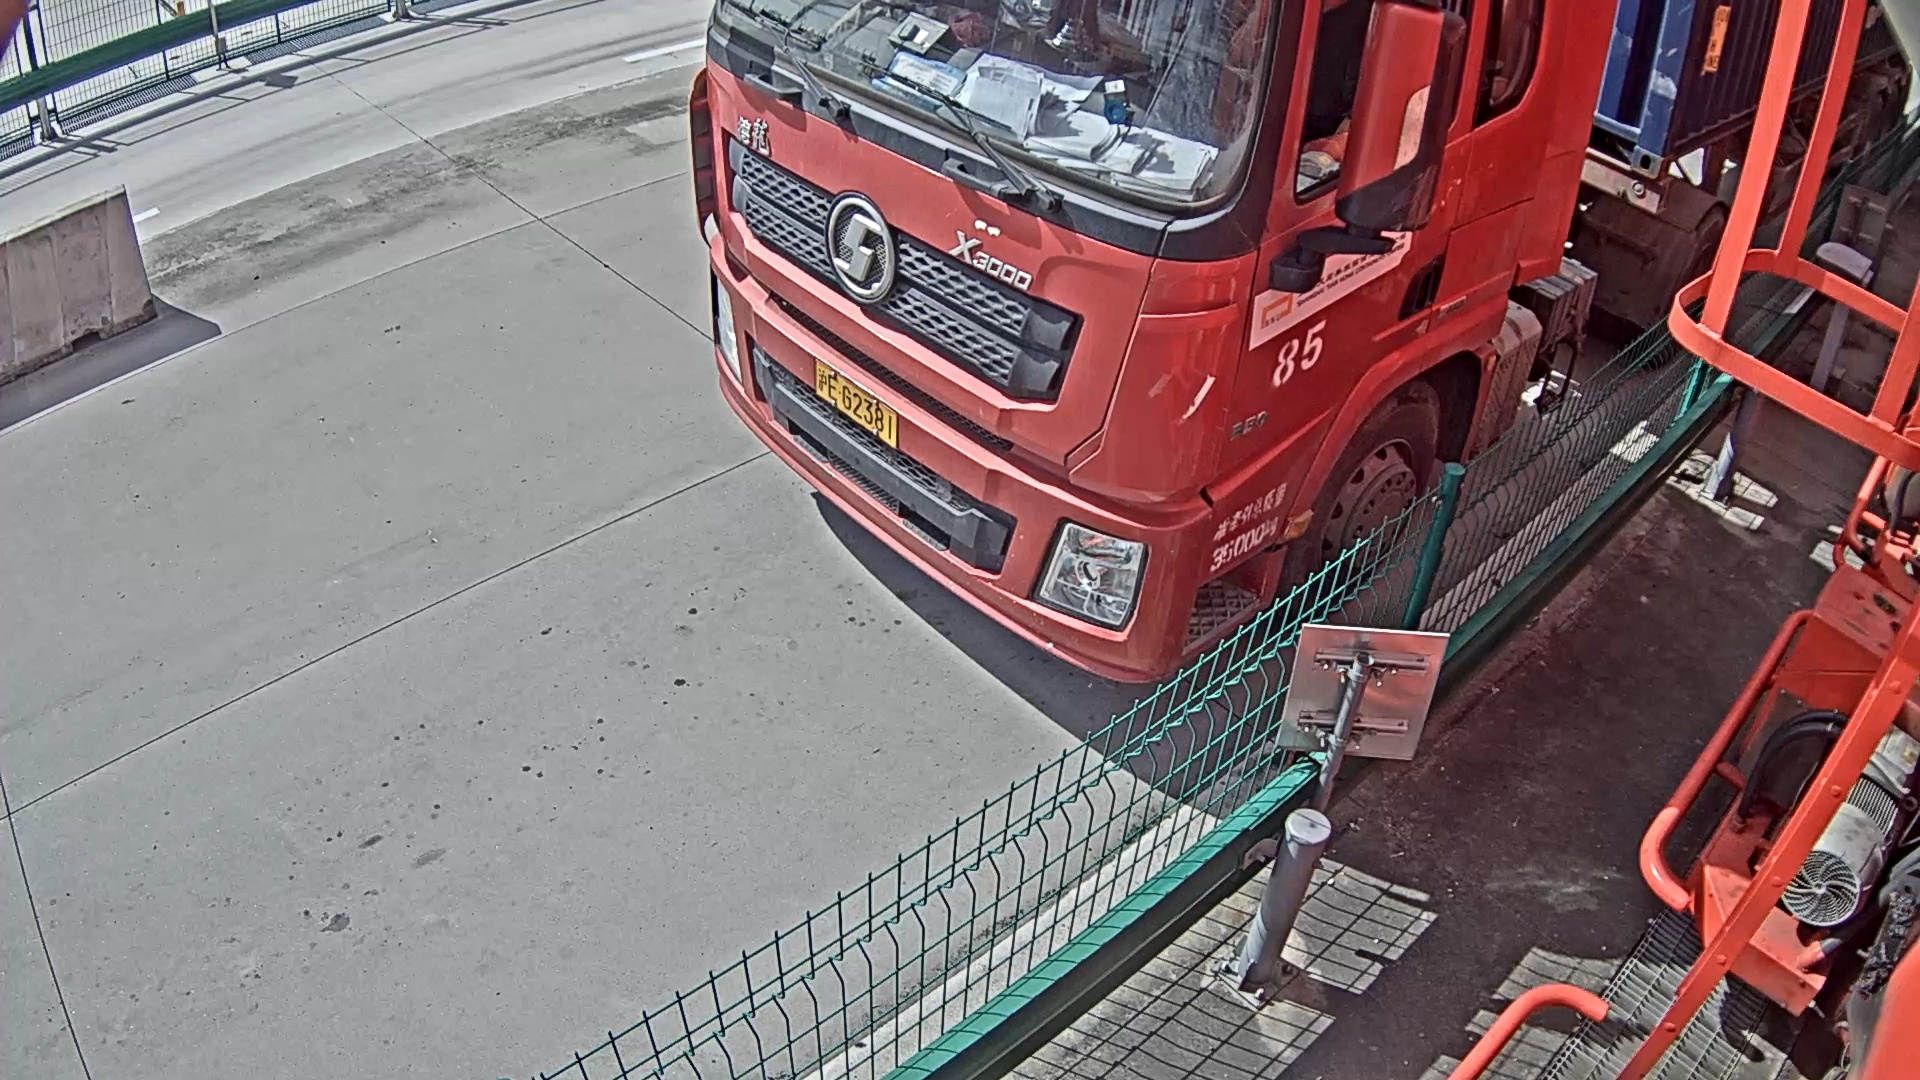head: (690, 1, 1625, 700)
plate: (812, 358, 901, 449)
